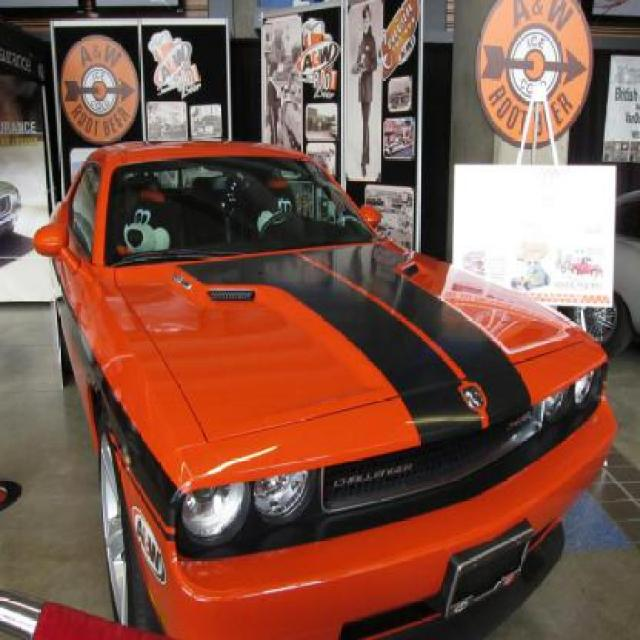License-Plates: (441, 523, 534, 621)
